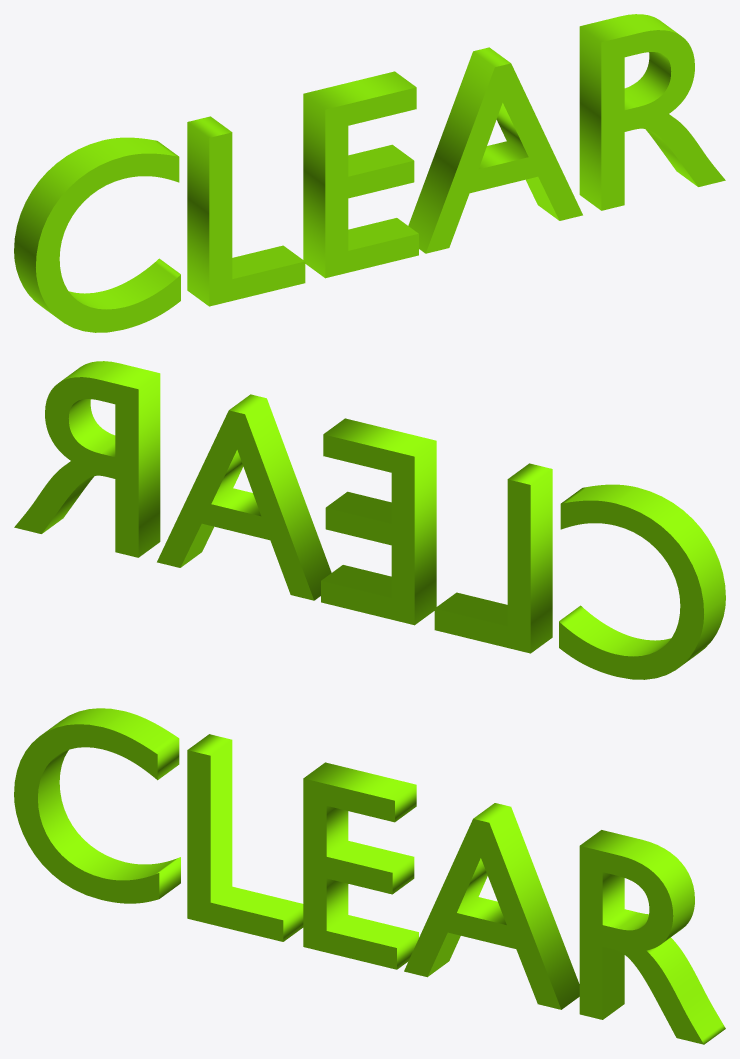
Rendered from Clear.obj.
3 views of the same model, one above another, from view 1: azimuth 30°, elevation 25°; view 2: azimuth 150°, elevation 25°; view 3: azimuth 330°, elevation 25° (orthographic).
Visible parts, largest first — view 1: Text; view 2: Text; view 3: Text.
Part boxes in pixels (left/top/right/bottom): Text: left=14, top=14, right=725, bottom=332; Text: left=14, top=361, right=725, bottom=679; Text: left=14, top=708, right=725, bottom=1044.
Size of the model in its own units: 2.92 by 0.7 by 0.16.
